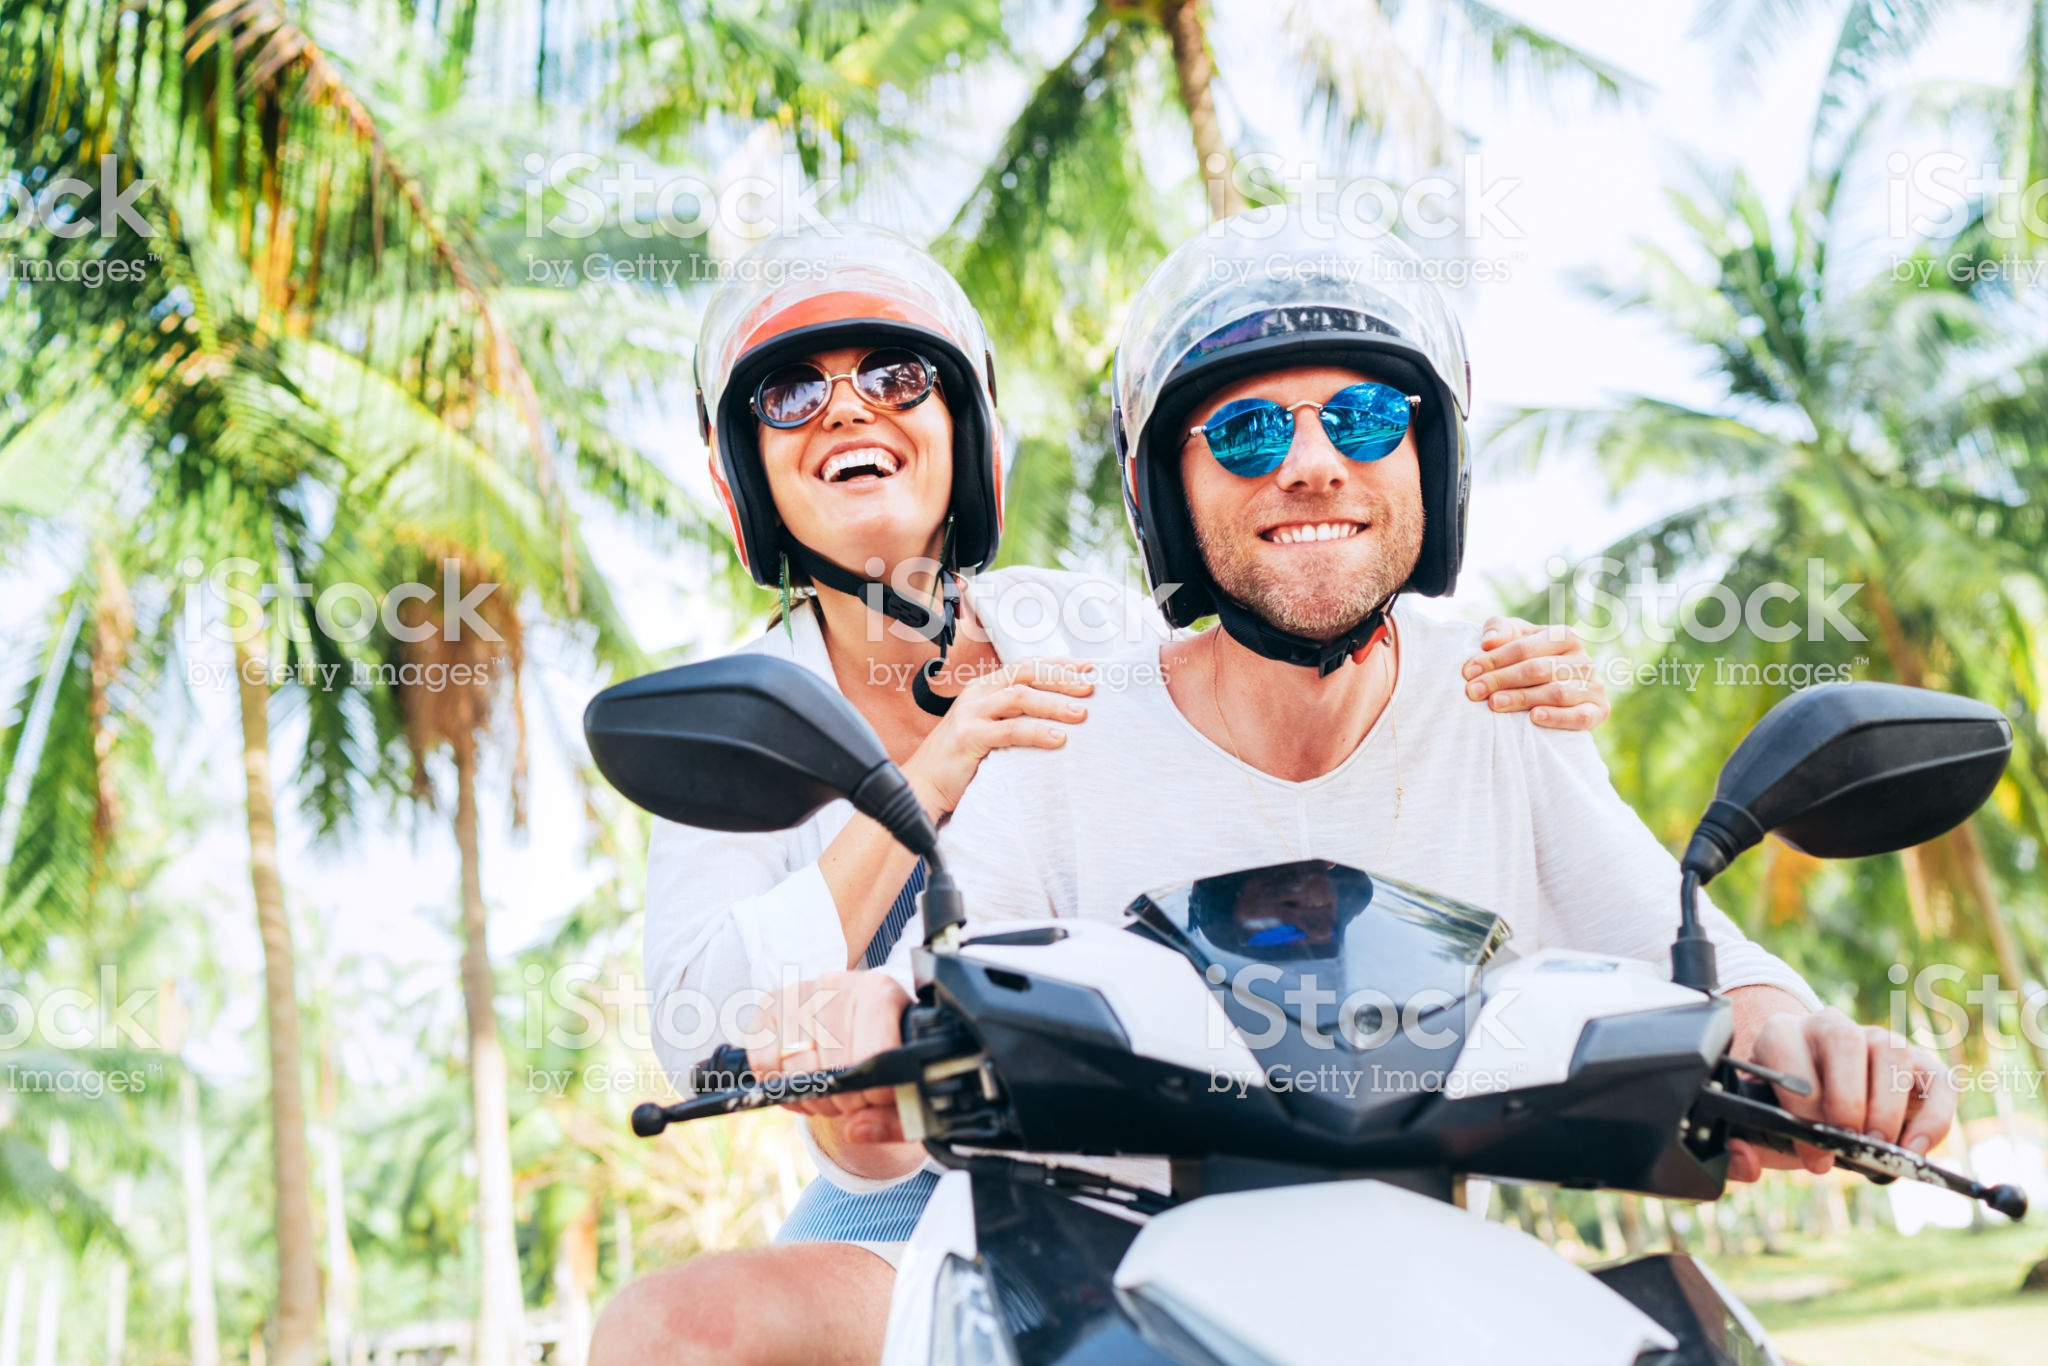helmet: (1094, 249, 1498, 598), (675, 220, 1013, 521)
